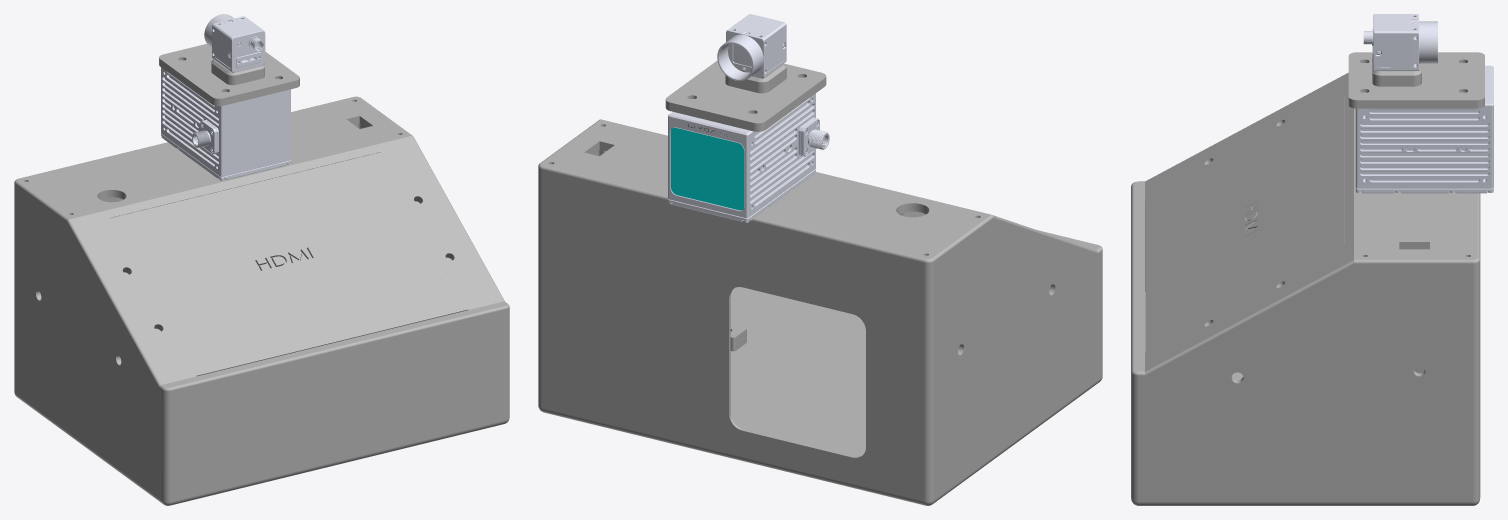
File: agx.glb
3 views of the same model, side by side, from view 1: azimuth 30°, elevation 25°; view 2: azimuth 150°, elevation 25°; view 3: azimuth 270°, elevation 25° (orthographic). The views are drawn at different scales.
Visible parts, largest first — view 1: 主机侧封装^新-1, hdni-1, 顶盖^封装-1, avia-1, 试装-1, mv-cs016-10umuc_v5-1; view 2: 主机侧封装^新-1, 顶盖^封装-1, avia-1, 试装-1, mv-cs016-10umuc_v5-1; view 3: 主机侧封装^新-1, hdni-1, avia-1, 顶盖^封装-1, 试装-1, mv-cs016-10umuc_v5-1.
Boxes of the visible parts, x1,y1,x2,y2 form: 主机侧封装^新-1: (14,96,509,505); hdni-1: (109,152,467,376); 顶盖^封装-1: (21,98,407,218); avia-1: (161,67,290,180); 试装-1: (159,44,299,106); mv-cs016-10umuc_v5-1: (204,14,265,72); 主机侧封装^新-1: (538,119,1102,505); 顶盖^封装-1: (546,120,986,256); avia-1: (668,93,829,222); 试装-1: (665,60,826,131); mv-cs016-10umuc_v5-1: (717,14,786,80); 主机侧封装^新-1: (1131,72,1480,505); hdni-1: (1145,95,1344,351); avia-1: (1355,65,1493,193); 顶盖^封装-1: (1354,108,1472,257); 试装-1: (1348,52,1484,108); mv-cs016-10umuc_v5-1: (1363,14,1437,70).
Bounding box in the file's own units: 0.3 × 0.29 × 0.239.
